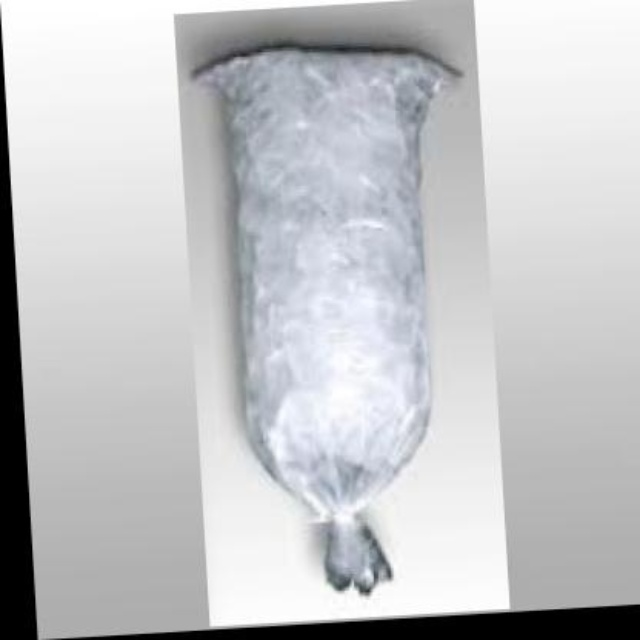trash: (195, 46, 455, 592)
